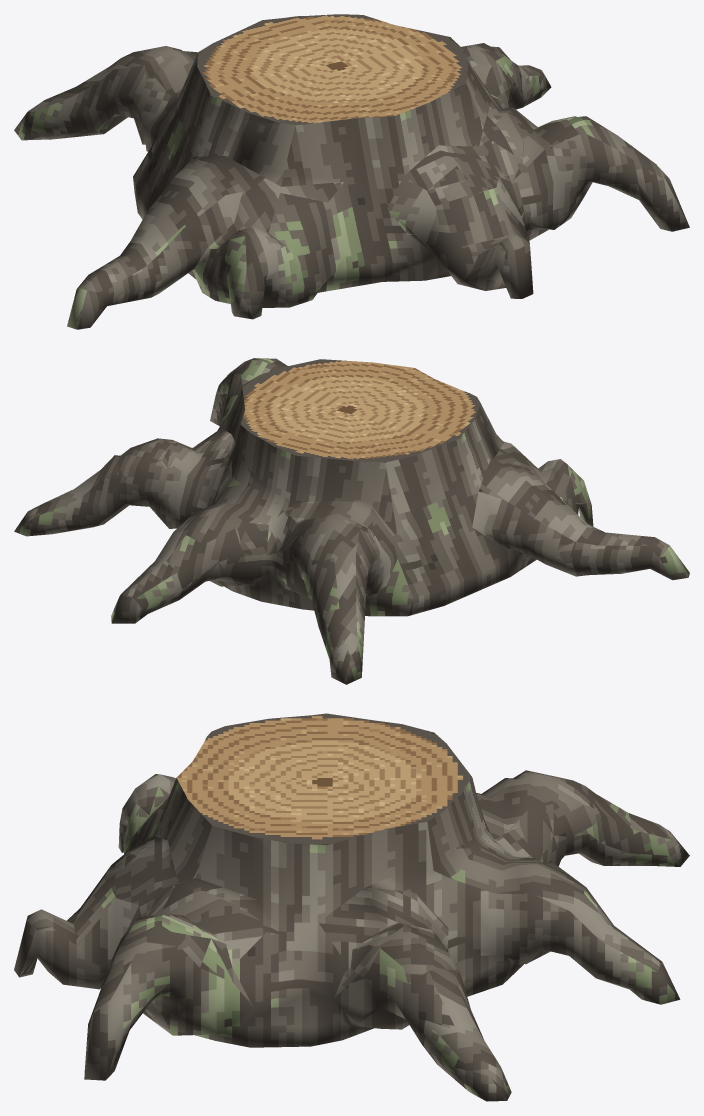
Rendered from environment_elm6_stump_v56.fbx.
3 renders of one model, top to bottom at view 1: azimuth 30°, elevation 25°; view 2: azimuth 150°, elevation 25°; view 3: azimuth 270°, elevation 25°, orthographic. The views are drawn at different scales.
Parts seen in each view (by area): view 1: environment_elm6_stump_v56; view 2: environment_elm6_stump_v56; view 3: environment_elm6_stump_v56.
Boxes of the visible parts, x1,y1,x2,y2 form: environment_elm6_stump_v56: [14, 14, 689, 329]; environment_elm6_stump_v56: [14, 358, 689, 684]; environment_elm6_stump_v56: [14, 713, 689, 1101].
Bounding box in the file's own units: 509 × 115 × 435.
2 materials, 2 textured.
